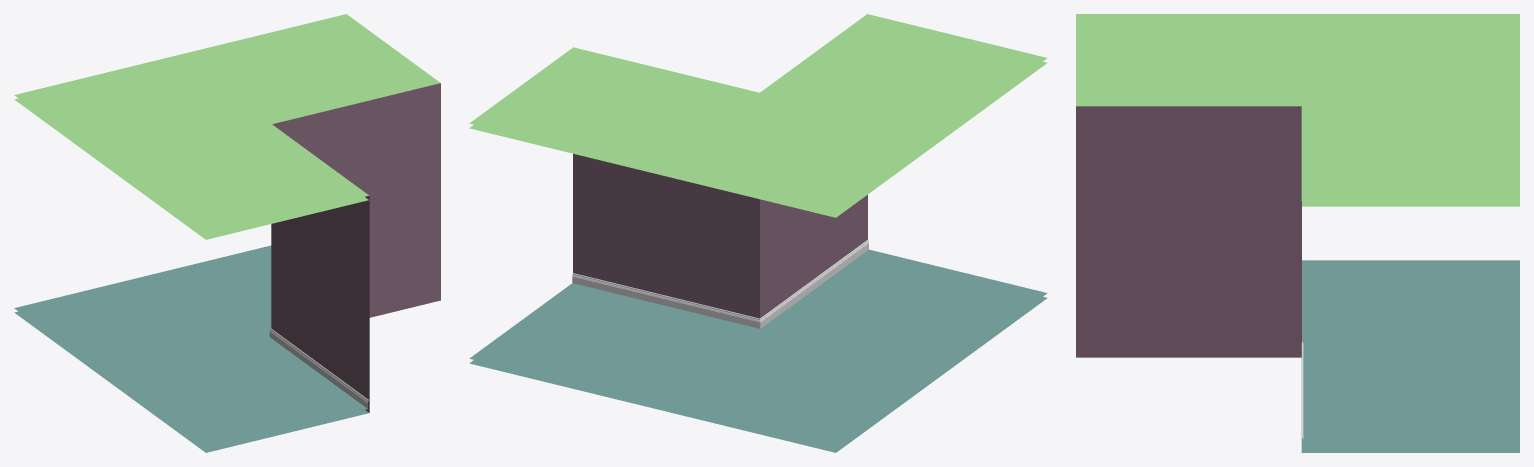
Rendered from Wall_2x2_corner_out_full.fbx.
3 views of the same model, side by side, from view 1: azimuth 30°, elevation 25°; view 2: azimuth 150°, elevation 25°; view 3: azimuth 270°, elevation 25° (orthographic). The views are drawn at different scales.
Visible parts, largest first — view 1: Wall_2x2_corner_out_full; view 2: Wall_2x2_corner_out_full; view 3: Wall_2x2_corner_out_full.
Boxes of the visible parts, x1,y1,x2,y2 form: Wall_2x2_corner_out_full: (14,14,440,452); Wall_2x2_corner_out_full: (469,14,1047,452); Wall_2x2_corner_out_full: (1076,14,1519,452).
Size of the model in its own units: 4 by 2.5 by 4.
